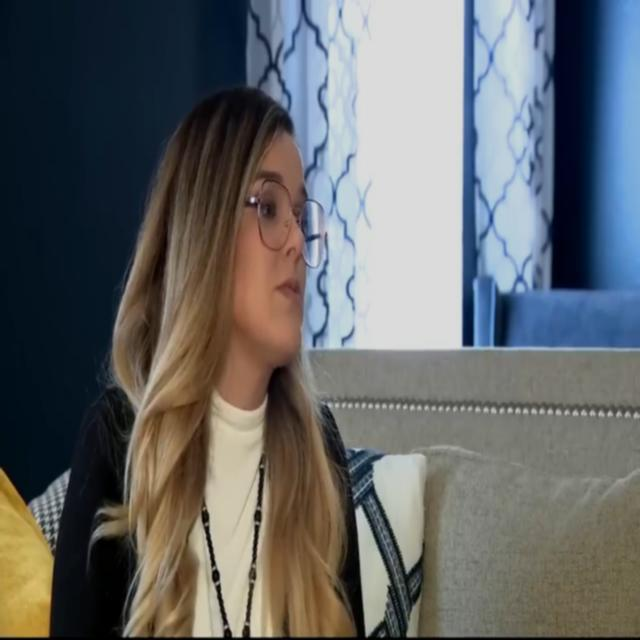non-fight: (58, 56, 434, 640)
